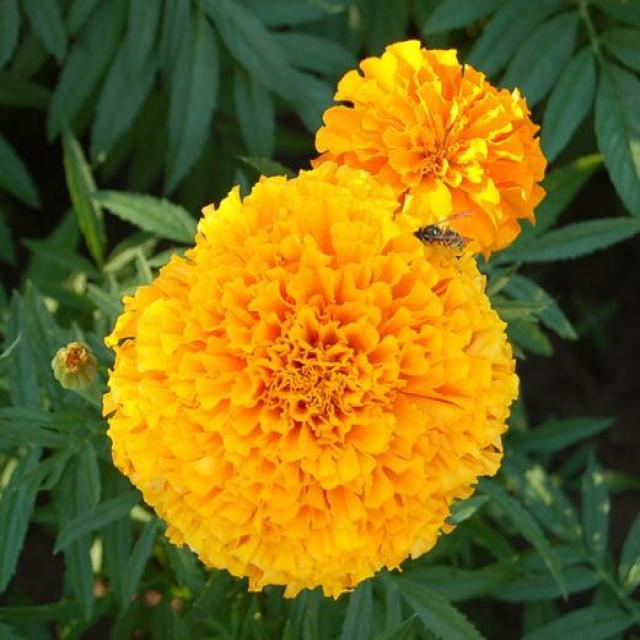marigold: (63, 16, 622, 612)
